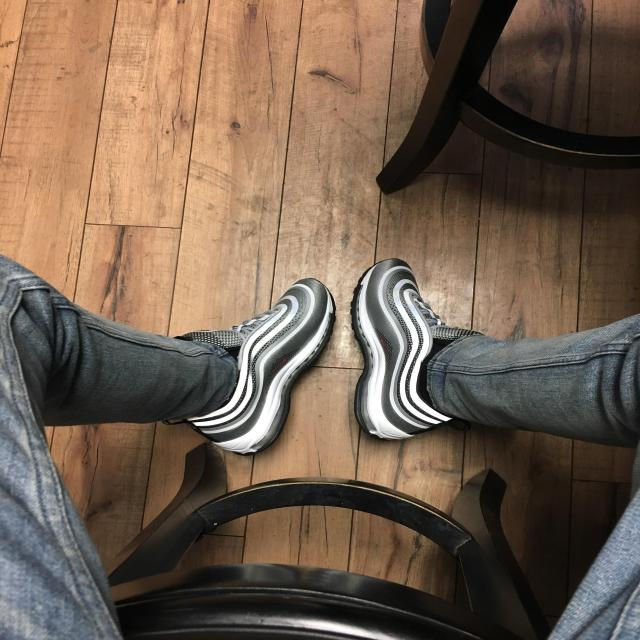shoe: (350, 241, 502, 454), (170, 273, 338, 460)
